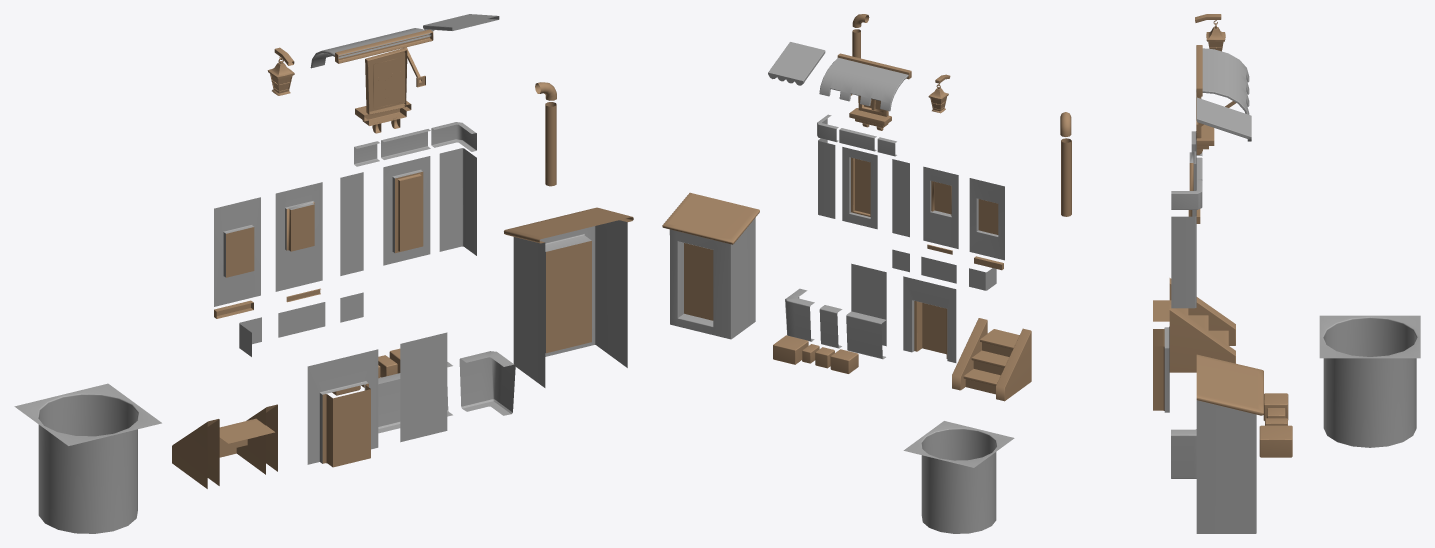
File: Assets.fbx
The picture shows the model from 3 angles, left to right: view 1: azimuth 30°, elevation 25°; view 2: azimuth 150°, elevation 25°; view 3: azimuth 270°, elevation 25°; orthographic projection. The views are drawn at different scales.
Parts seen in each view (by area): view 1: Door2, Hole, Door1, Stairs, Wall_Unit3, Window_Long, Window_Small, Window_Big, Wall_Corner, Baseboard_Corner, Window_Frame, Floor_Unit9 (+9 smaller); view 2: Door2, Hole, Stairs, Door1, Canopy_Big, Window_Long, Window_Big, Window_Small, Wall_Unit3, Canopy_Small, Baseboardx2, Wall_Corner (+9 smaller); view 3: Hole, Door2, Stairs, Wall_Corner, Canopy_Big, Door1, Canopy_Small, Baseboard_Corner, Brick1, Pipe, WallStripe_Corner, Brick4.
Part boxes in pixels (box(x1,y1,x2,y2)): Door2: box(504, 207, 633, 387); Hole: box(14, 383, 161, 533); Door1: box(307, 349, 378, 467); Stairs: box(172, 404, 277, 488); Wall_Unit3: box(400, 332, 447, 442); Window_Long: box(383, 156, 430, 265); Window_Small: box(275, 182, 322, 291); Window_Big: box(214, 197, 260, 306); Wall_Corner: box(439, 148, 476, 255); Baseboard_Corner: box(459, 351, 515, 415); Window_Frame: box(365, 48, 407, 114); Floor_Unit9: box(340, 172, 363, 275); Door2: box(662, 192, 759, 339); Hole: box(903, 421, 1014, 533); Stairs: box(952, 318, 1031, 401); Door1: box(903, 276, 956, 362); Canopy_Big: box(819, 57, 908, 111); Window_Long: box(842, 147, 877, 229); Window_Big: box(969, 178, 1004, 260); Window_Small: box(923, 166, 958, 248); Wall_Unit3: box(851, 263, 886, 346); Canopy_Small: box(768, 42, 825, 85); Baseboardx2: box(846, 311, 885, 359); Wall_Corner: box(818, 138, 835, 218); Hole: box(1319, 315, 1420, 447); Door2: box(1196, 354, 1263, 533); Stairs: box(1153, 278, 1235, 372); Wall_Corner: box(1171, 216, 1196, 308); Canopy_Big: box(1202, 48, 1249, 114); Door1: box(1153, 326, 1169, 412); Canopy_Small: box(1197, 97, 1251, 141); Baseboard_Corner: box(1171, 429, 1196, 478); Brick1: box(1259, 425, 1292, 457); Pipe: box(1061, 138, 1071, 216); WallStripe_Corner: box(1171, 180, 1202, 209); Brick4: box(1263, 393, 1288, 420).
Size of the model in its own units: 10.62 by 10.1 by 7.13.
